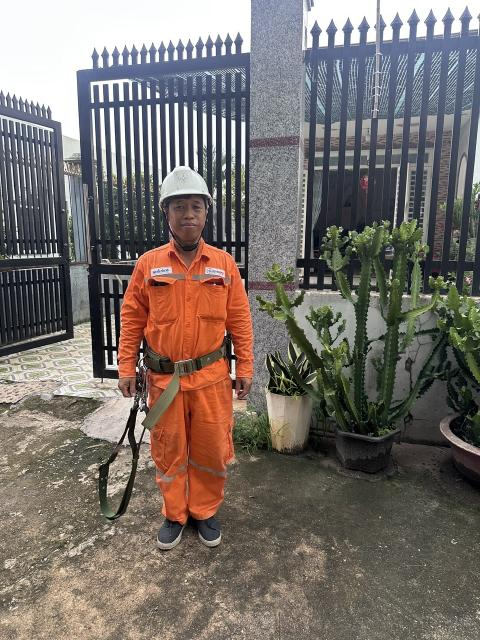harness: (134, 339, 245, 382)
helmet: (153, 162, 217, 205)
shoes: (155, 498, 185, 552), (193, 507, 228, 551)
